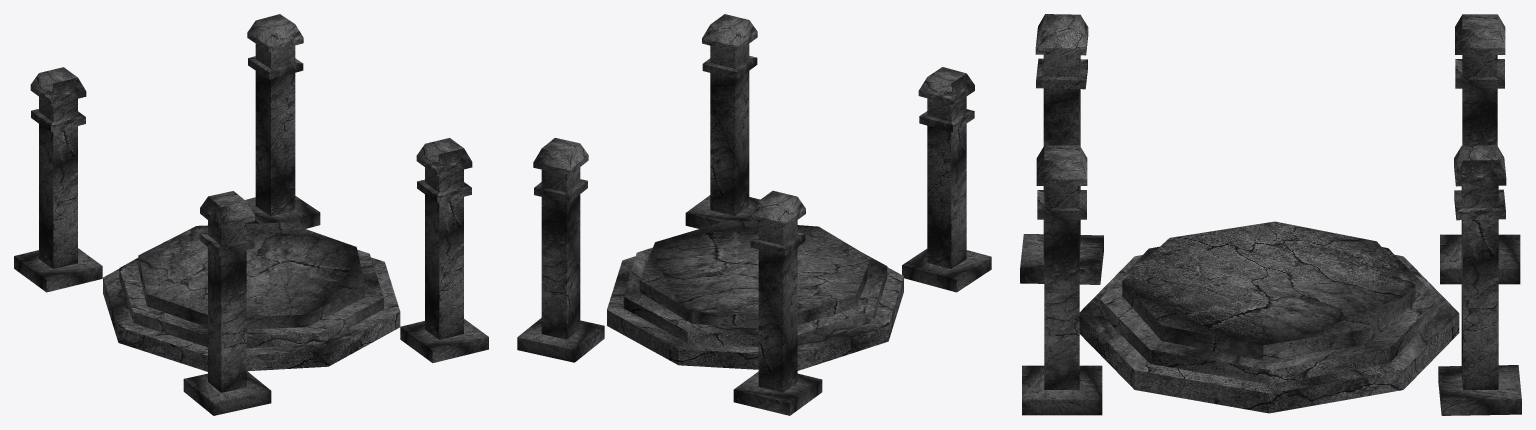
File: ritual_platform.glb
3 renders of one model, left to right at view 1: azimuth 30°, elevation 25°; view 2: azimuth 150°, elevation 25°; view 3: azimuth 270°, elevation 25°, orthographic. The views are drawn at different scales.
Visible parts, largest first — view 1: pCylinder2, pCube7, pCube5, pCube4, pCube6, pCylinder3, pCylinder1; view 2: pCylinder2, pCube4, pCube7, pCube6, pCube5, pCylinder3, pCylinder1; view 3: pCylinder2, pCylinder3, pCube6, pCube5, pCylinder1, pCube4, pCube7.
Boxes of the visible parts, x1,y1,x2,y2 form: pCylinder2: (138,222,364,329); pCube7: (14,67,102,292); pCube5: (400,138,488,362); pCube4: (183,191,271,415); pCube6: (245,14,320,228); pCylinder3: (103,257,400,371); pCylinder1: (119,249,383,348); pCylinder2: (639,220,870,328); pCube4: (902,67,991,292); pCube7: (733,190,822,415); pCube6: (517,138,604,362); pCube5: (685,14,760,228); pCylinder3: (607,256,903,370); pCylinder1: (623,247,887,346); pCylinder2: (1122,221,1415,360); pCylinder3: (1079,255,1459,413); pCube6: (1438,145,1521,415); pCube5: (1022,145,1102,415); pCylinder1: (1100,246,1438,384); pCube4: (1020,14,1103,284); pCube7: (1440,14,1520,284).
Size of what is drawn, in the model's own units: 7.1 by 4.9 by 9.05.
1 material, 1 textured.
